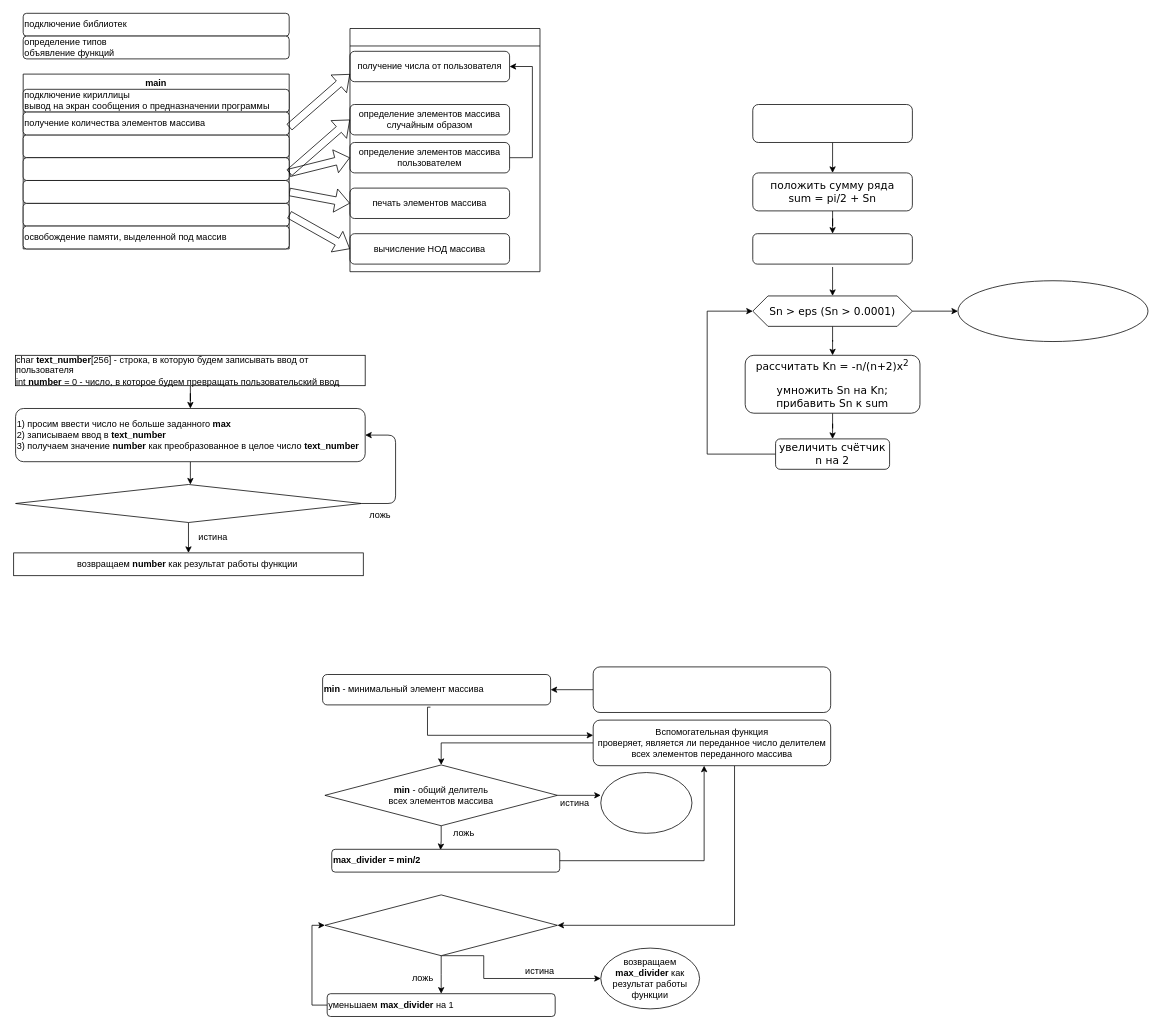
The diagram is 1161 pixels wide and 1030 high, and some of its shapes have lost their labels. Each missing label, with the centre of its shape:
0 <= number <= max: pixel 188 503
max_divider = 1 или общий делитель всех элементов массива: pixel 440 925
вернуть сумму ряда sum как результат работы функции: pixel 1052 311
возвращаем min как результат работы функции: pixel 646 802
Вспомогательная функция определение минимального элемента массива: pixel 711 689
вывод НОД массива на экран: pixel 155 214
вывод полученного массива на экран: pixel 155 191
задание элементов массива: pixel 155 168
отдельно определённые функции: pixel 444 150
положить очередное слагаемое ряда Sn = -1/x: pixel 832 123
создание массива с помощью выделения памяти под нужное количество элементов: pixel 155 146
счётчик элементов ряда n = 1: pixel 832 248
